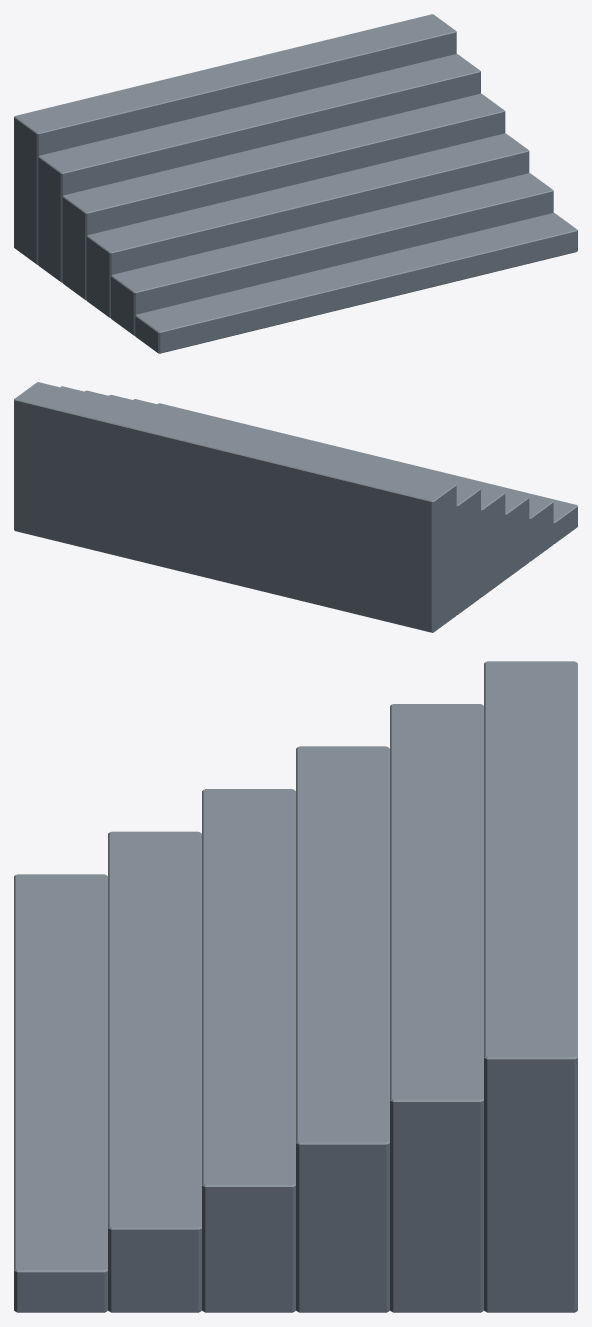
The model's file is stair-wide.glb.
The picture shows the model from 3 angles, top to bottom: view 1: azimuth 30°, elevation 25°; view 2: azimuth 150°, elevation 25°; view 3: azimuth 270°, elevation 25°; orthographic projection. The views are drawn at different scales.
Visible parts, largest first — view 1: stair-wide__body; view 2: stair-wide__body; view 3: stair-wide__body.
Boxes of the visible parts, x1=… form: stair-wide__body: x1=14, y1=14, x2=577, y2=353; stair-wide__body: x1=14, y1=382, x2=577, y2=632; stair-wide__body: x1=14, y1=661, x2=577, y2=1312.
Size of the model in its own units: 4 by 1.2 by 2.4.
